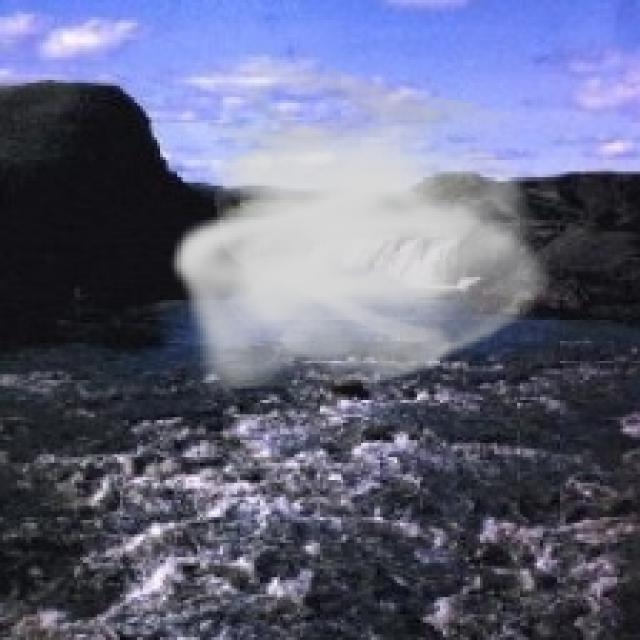Smoke: (168, 57, 560, 400)
